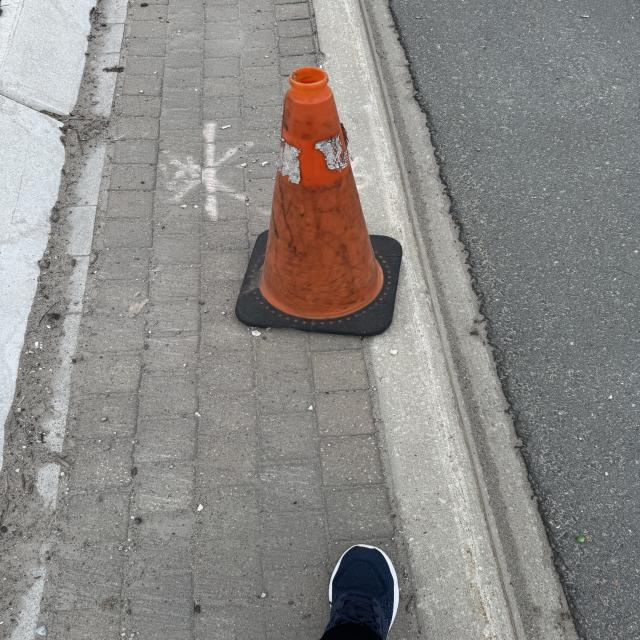Traffic Cone: (231, 67, 410, 337)
